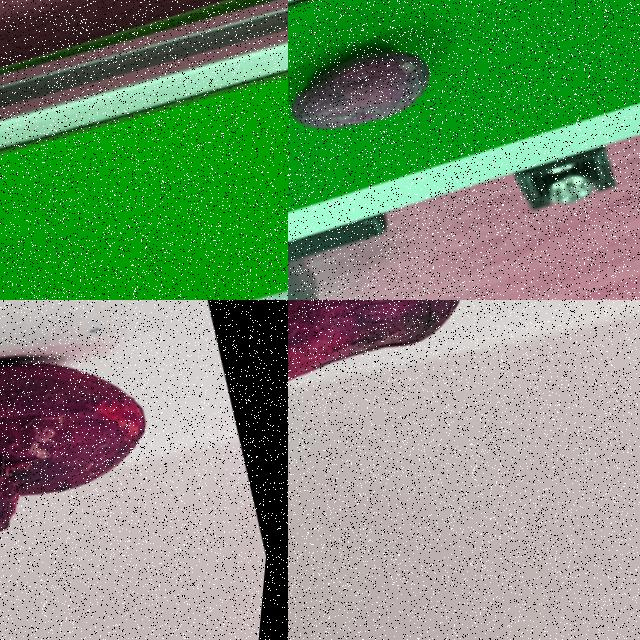Agglomerated_cocoabeans: (0, 300, 205, 635)
Fine_cocoabeans: (288, 0, 574, 210), (288, 300, 552, 510)
